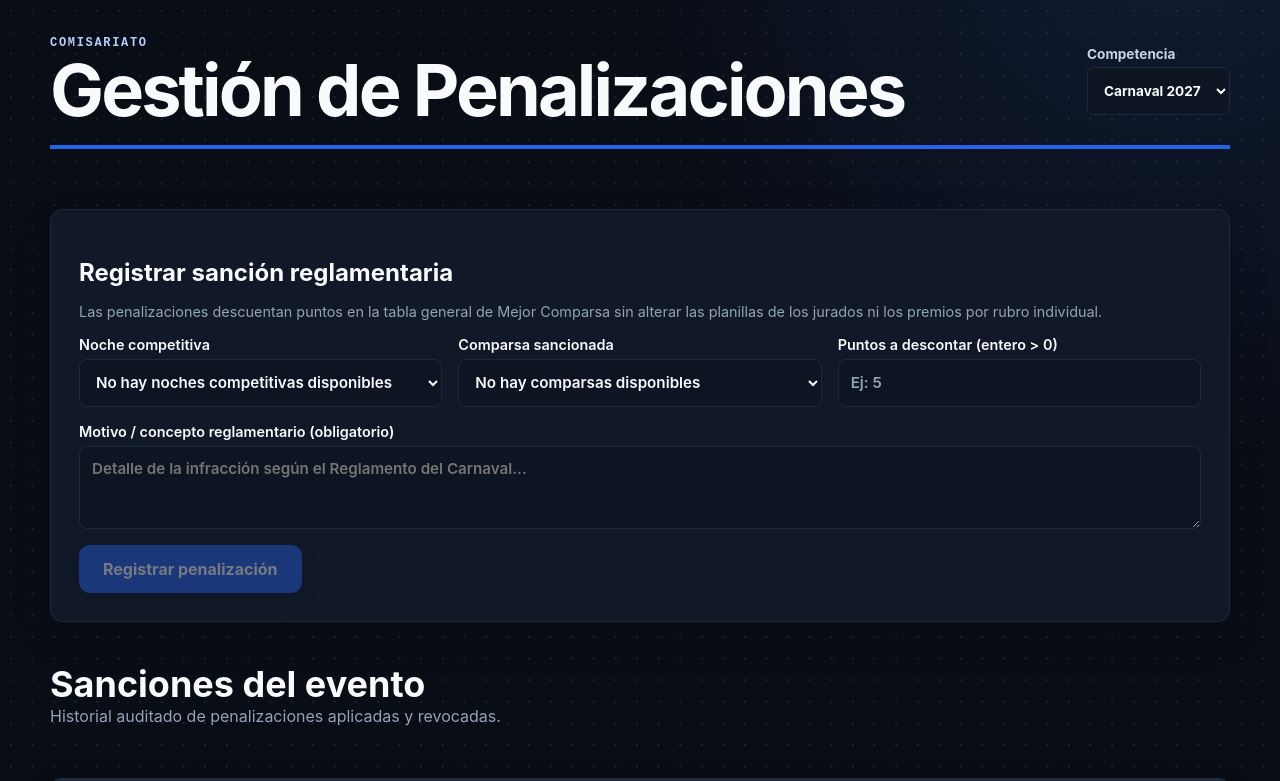
it: AdminPenaltiesPage › maneja errores específicos de API (PENALTY_REQUIRES_COMPETITION_NIGHT y TWO_FACTOR_REQUIRED)
The width and height of the screenshot is (1280, 781).
Check: the heading "Registrar sanción reglamentaria" is shown, box [79,258,453,287]
In the number field labelled "Puntos a descontar (entero > 0)": (1019, 383) [838,359,1201,407], type "3"
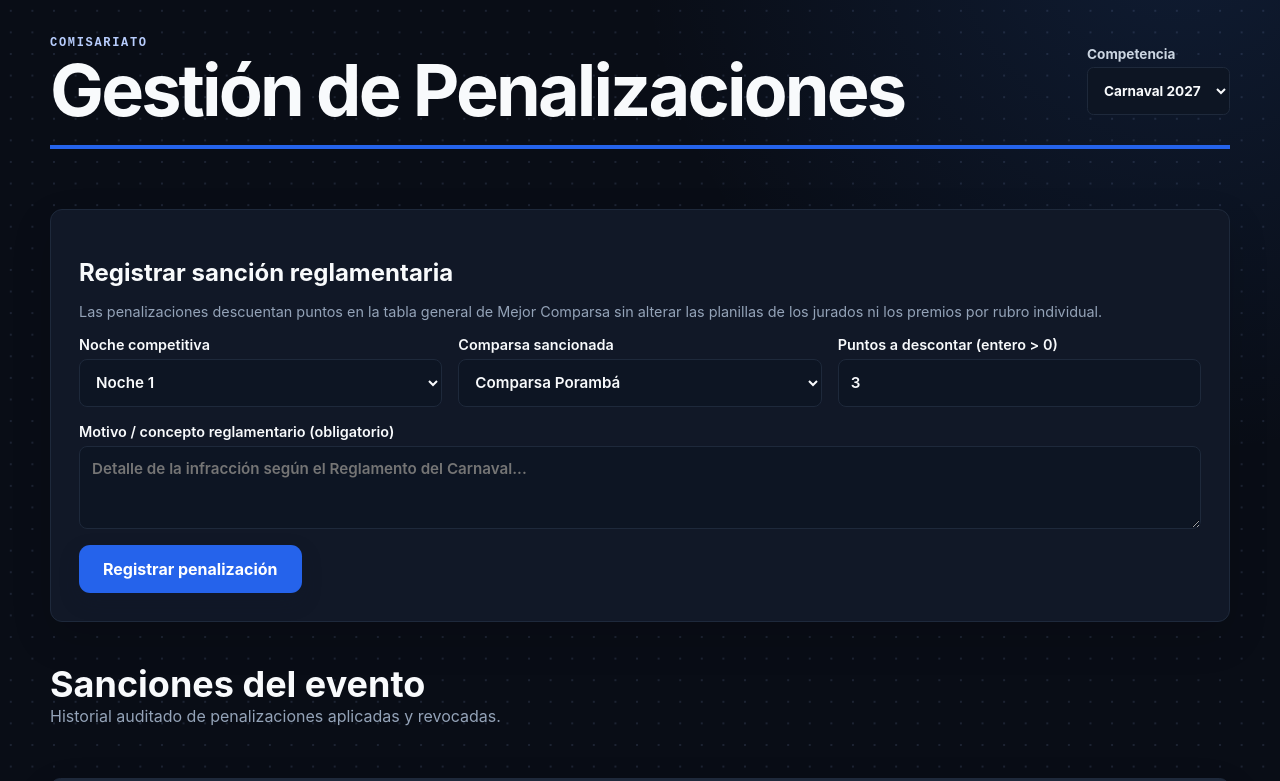
In the text box labelled "Motivo / concepto reglamentario (obligatorio)": (640, 488) [79,446,1201,529], type "Infracción"
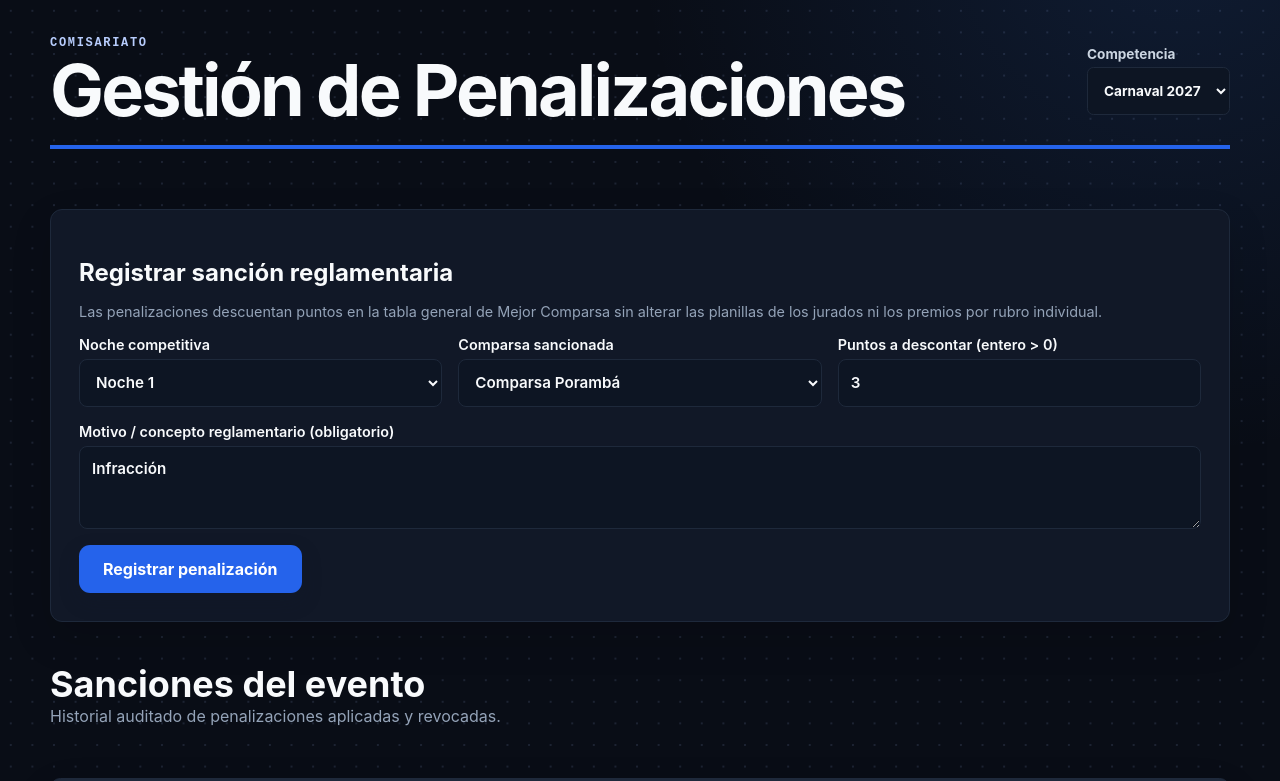
Click the button "Registrar penalización": (190, 569) [79,545,302,593]
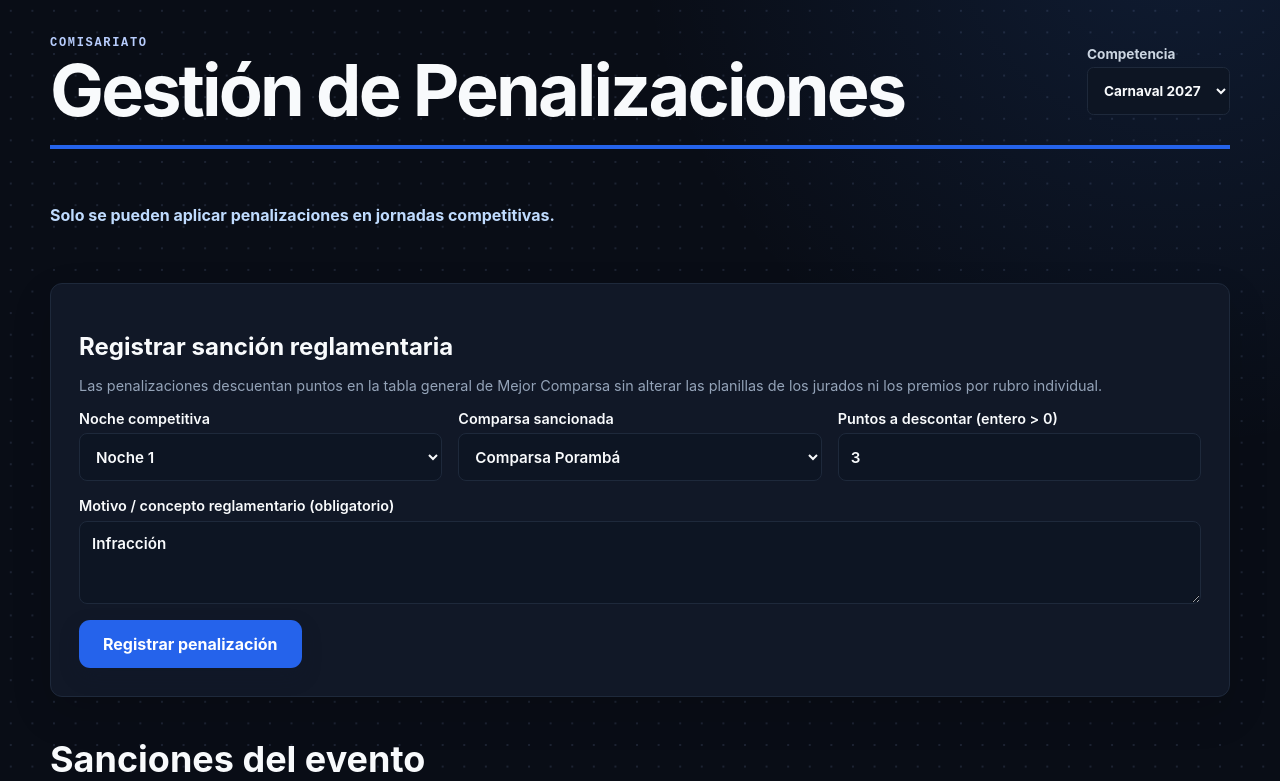
Check: the text "Solo se pueden aplicar penalizaciones en jornadas competitivas." is shown, box [50,205,555,225]
